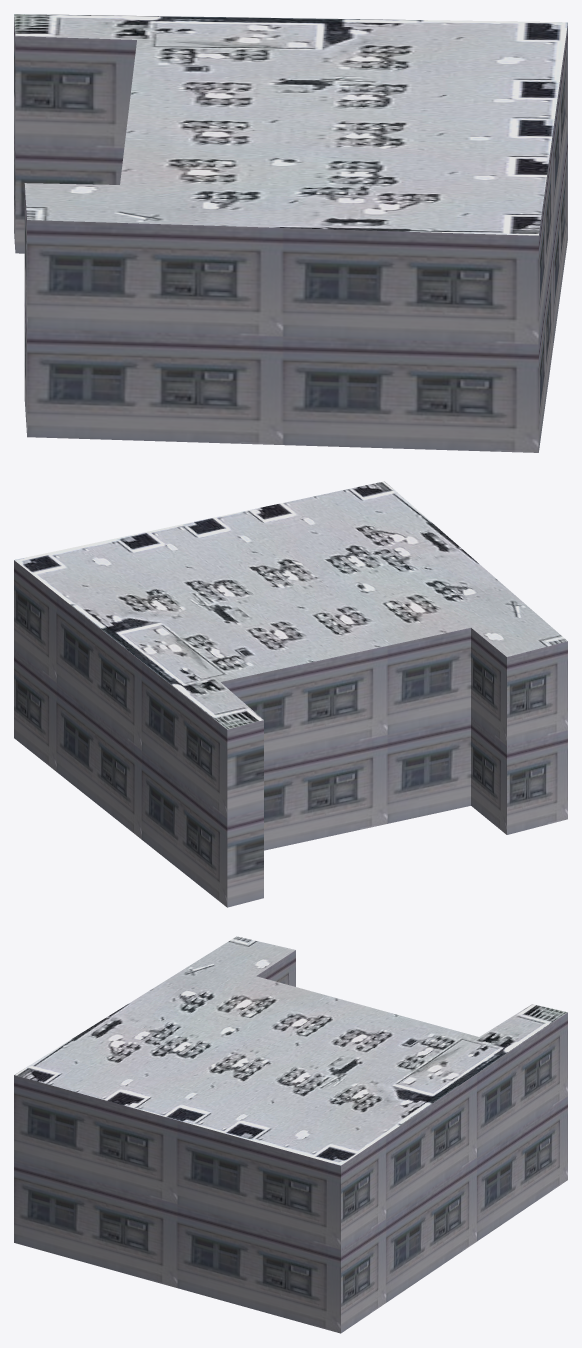
Rendered from ResTex__734.fbx.
3 renders of one model, top to bottom at view 1: azimuth 30°, elevation 25°; view 2: azimuth 150°, elevation 25°; view 3: azimuth 270°, elevation 25°, orthographic. The views are drawn at different scales.
Parts seen in each view (by area): view 1: CityEngineMaterial_1_m, CityEngineMaterial_4_m; view 2: CityEngineMaterial_1_m, CityEngineMaterial_4_m; view 3: CityEngineMaterial_1_m, CityEngineMaterial_4_m.
Boxes of the visible parts, x1,y1,x2,y2 form: CityEngineMaterial_1_m: [14, 17, 567, 452]; CityEngineMaterial_4_m: [14, 14, 567, 235]; CityEngineMaterial_1_m: [14, 560, 567, 907]; CityEngineMaterial_4_m: [14, 481, 567, 729]; CityEngineMaterial_1_m: [14, 950, 567, 1333]; CityEngineMaterial_4_m: [14, 936, 567, 1165].
Size of the model in its own units: 17.59 by 6 by 17.95.
2 materials, 2 textured.
